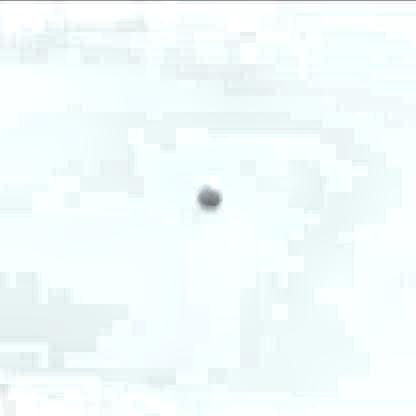golfball: (193, 175, 221, 206)
